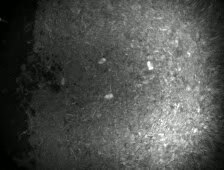corn: (96, 55, 108, 67), (145, 60, 155, 72), (102, 92, 114, 101), (58, 76, 68, 86)
